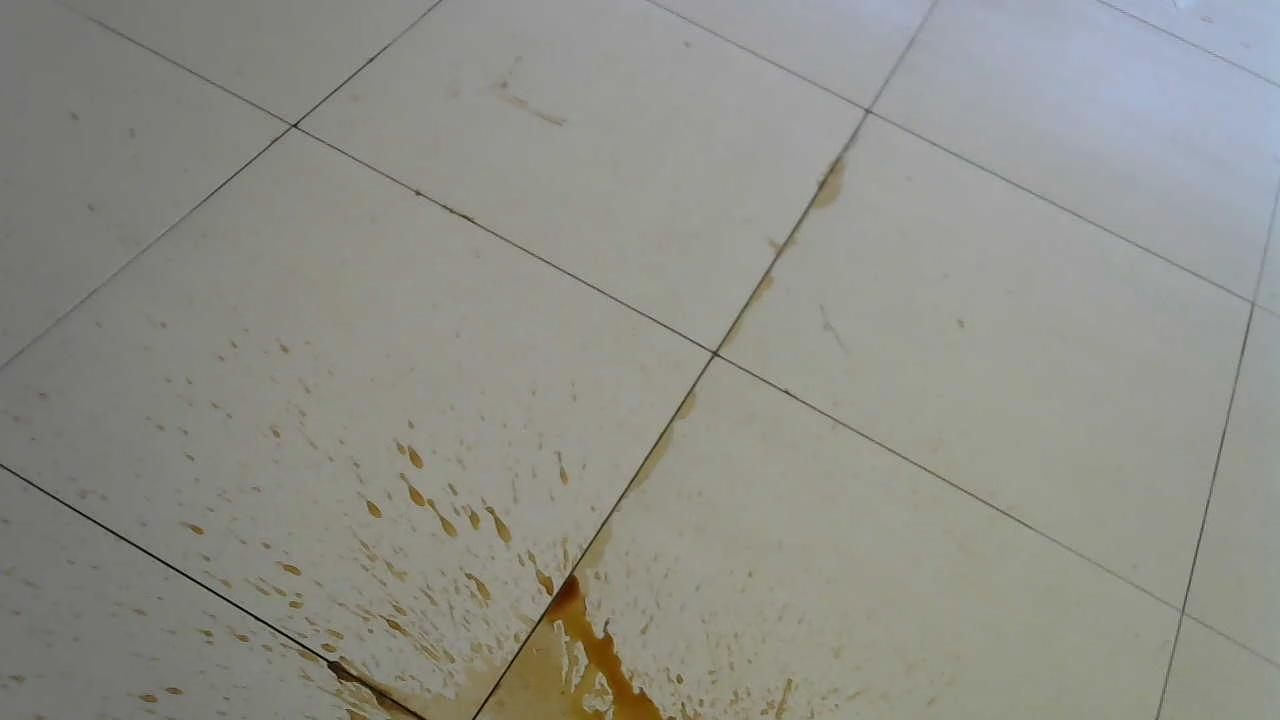dirty_floor: (203, 412, 803, 720)
